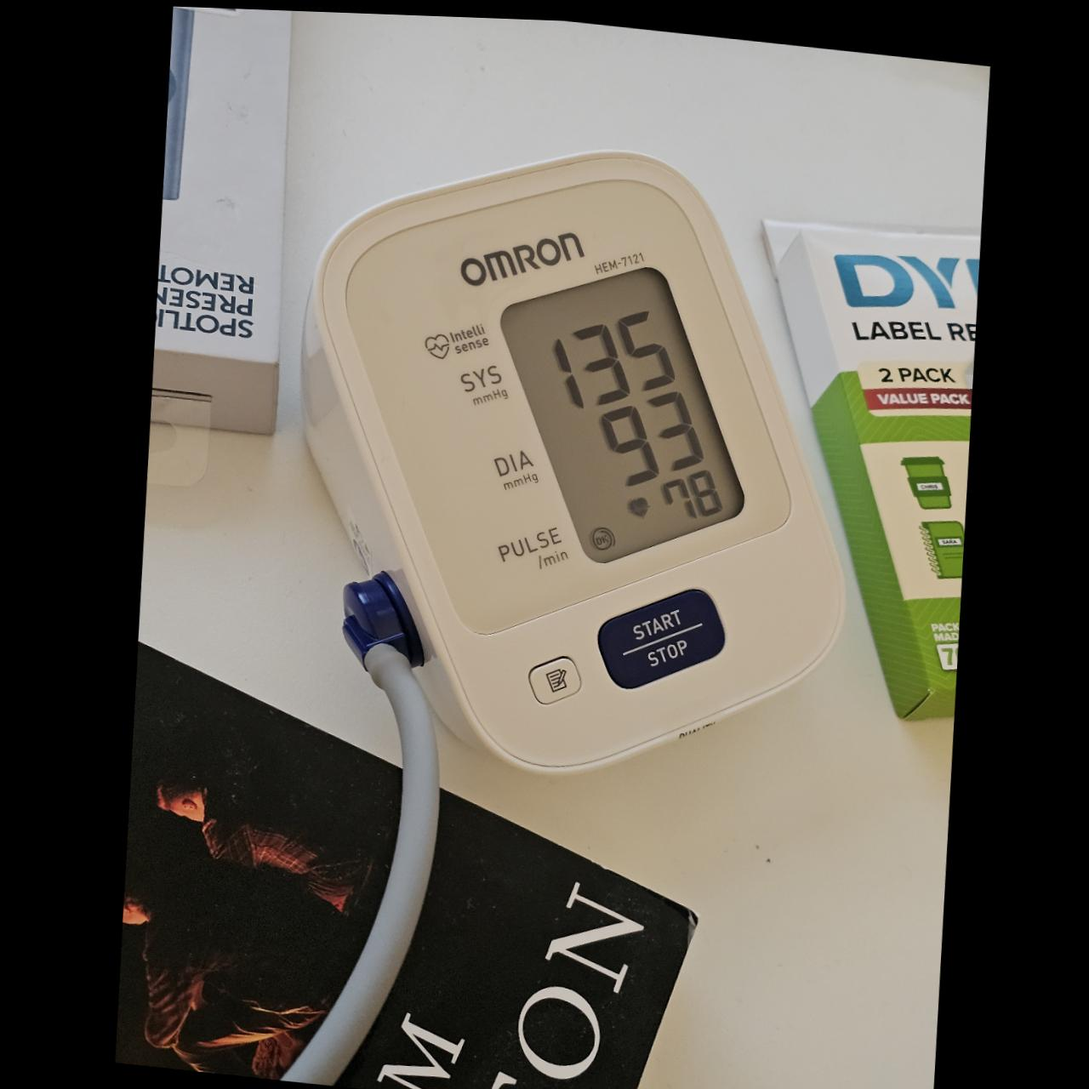lcd display: (482, 250, 764, 581)
